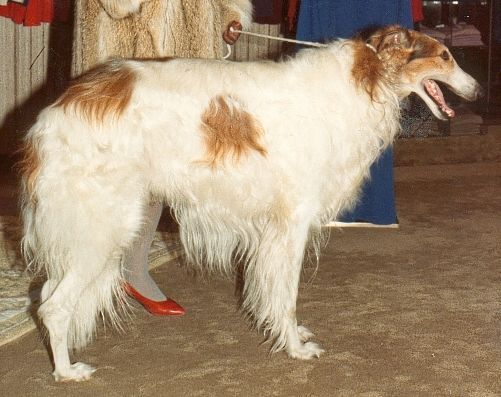borzoi: (8, 27, 478, 380)
